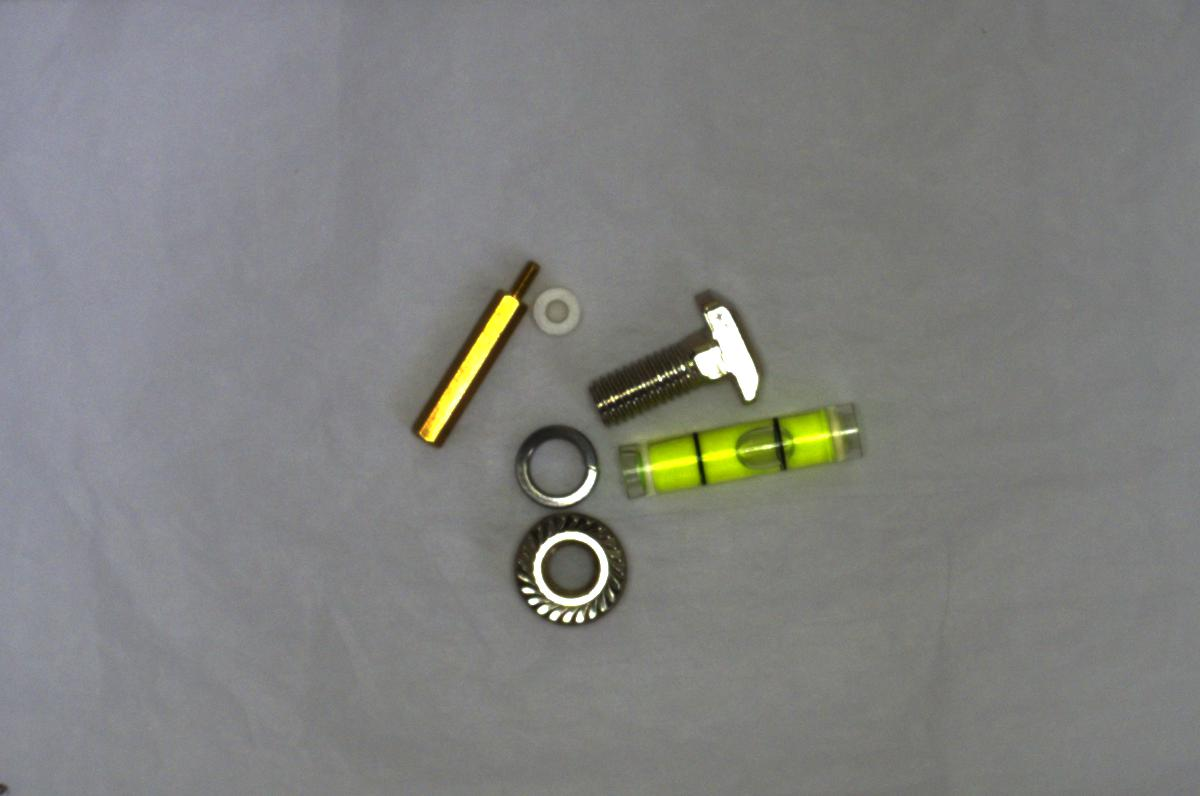Flange nut: (507, 509, 637, 634)
Hexagon pillar: (407, 249, 540, 443)
Horizontal bubble: (614, 400, 877, 506)
Plastic cushion pillar: (527, 287, 580, 334)
Spring washer: (507, 415, 605, 510)
T-shaped screw: (585, 286, 767, 423)
